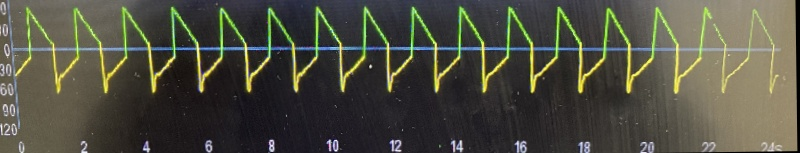peepi: (13, 0, 785, 101)
